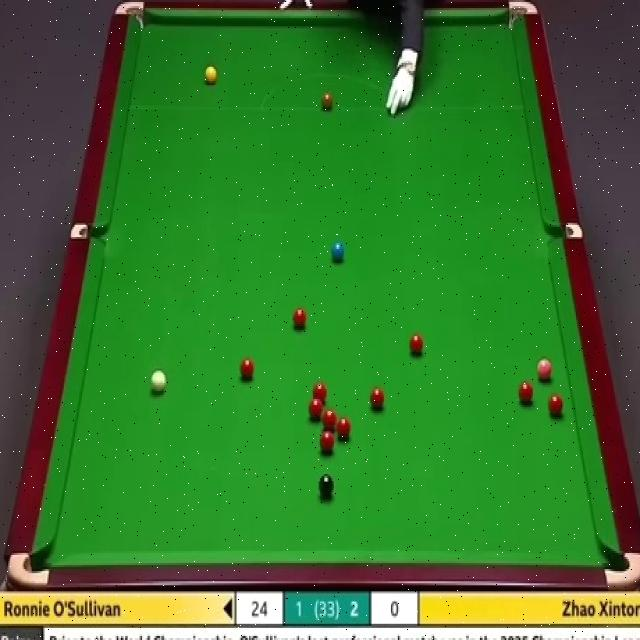black-ball: (320, 474, 334, 498)
blue-ball: (332, 239, 344, 263)
brown-ball: (320, 92, 335, 110)
pink-ball: (536, 358, 553, 380)
red-ball: (370, 385, 387, 413), (548, 394, 566, 416), (336, 416, 352, 440), (518, 380, 533, 405), (239, 356, 254, 379), (292, 309, 308, 330), (309, 398, 323, 422), (319, 431, 334, 453), (323, 412, 338, 432), (410, 333, 423, 356), (313, 383, 326, 404)
white-ball: (152, 371, 166, 395)
yellow-ball: (204, 64, 218, 87)
